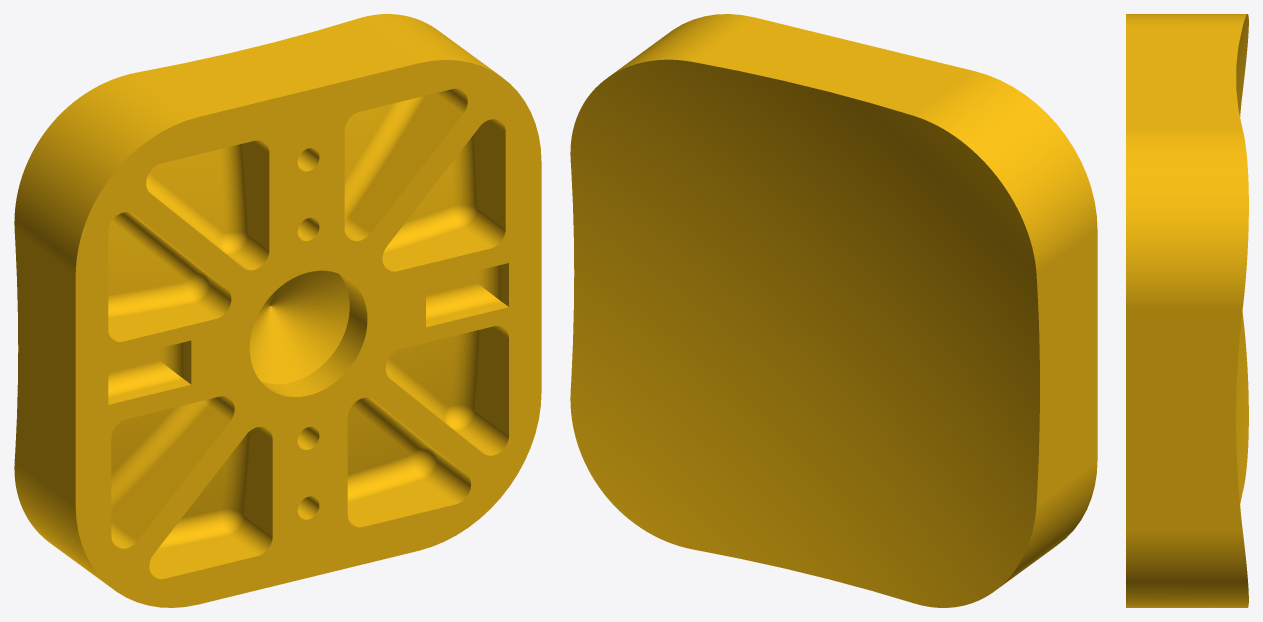
The model's file is Reflector.gltf.
3 renders of one model, left to right at view 1: azimuth 30°, elevation 25°; view 2: azimuth 150°, elevation 25°; view 3: azimuth 270°, elevation 25°, orthographic. The views are drawn at different scales.
Parts seen in each view (by area): view 1: Reflector; view 2: Reflector; view 3: Reflector.
Boxes of the visible parts, box(x1,y1,x2,y2) form: Reflector: box(14, 14, 541, 607); Reflector: box(570, 14, 1097, 607); Reflector: box(1126, 14, 1248, 607).
Bounding box in the file's own units: 0.182 × 0.182 × 0.0435.
